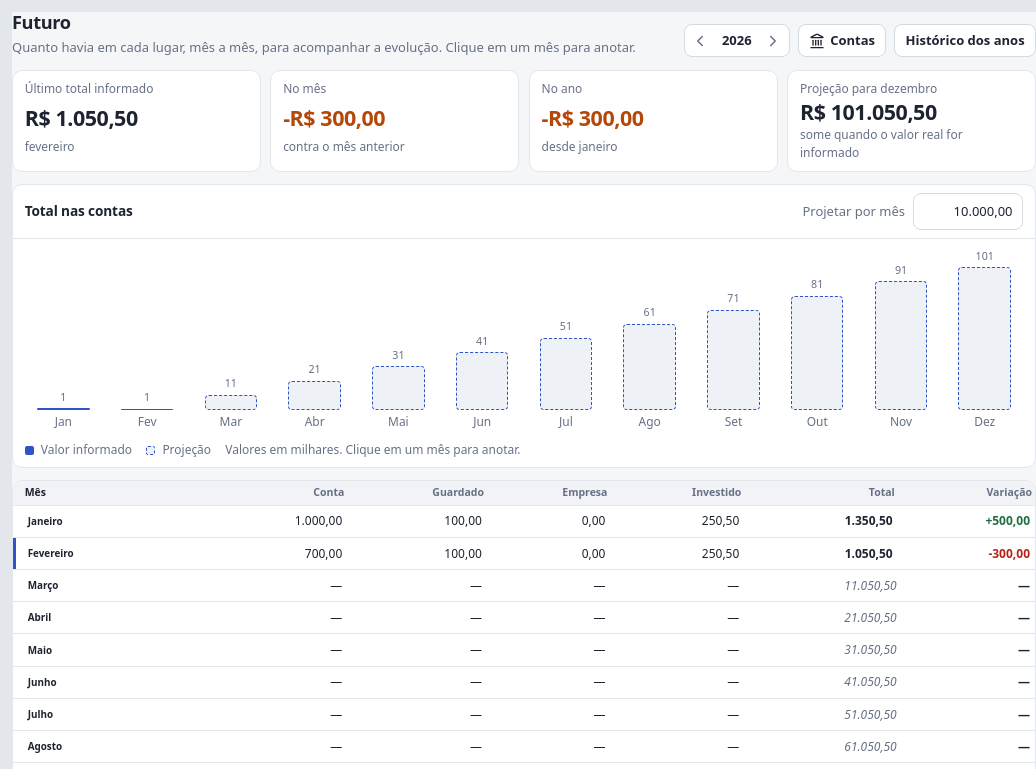
Test: BalancesPage › lets the monthly projection be changed, and remembers it
This screenshot has width=1036, height=769.
Replace the text in the field labelled "Projetar por mês" with "50000": coordinates (968, 211) x1=913 y1=193 x2=1023 y2=230
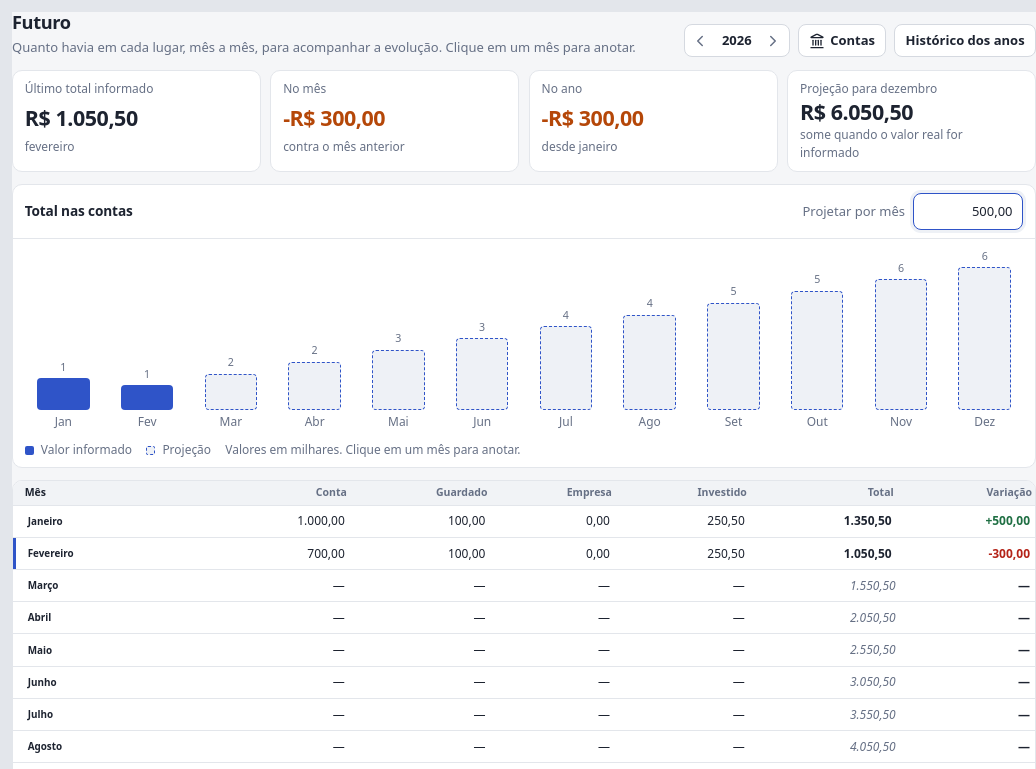
Expected: the text "1.550,50" is shown, x1=750 y1=569 x2=897 y2=602
